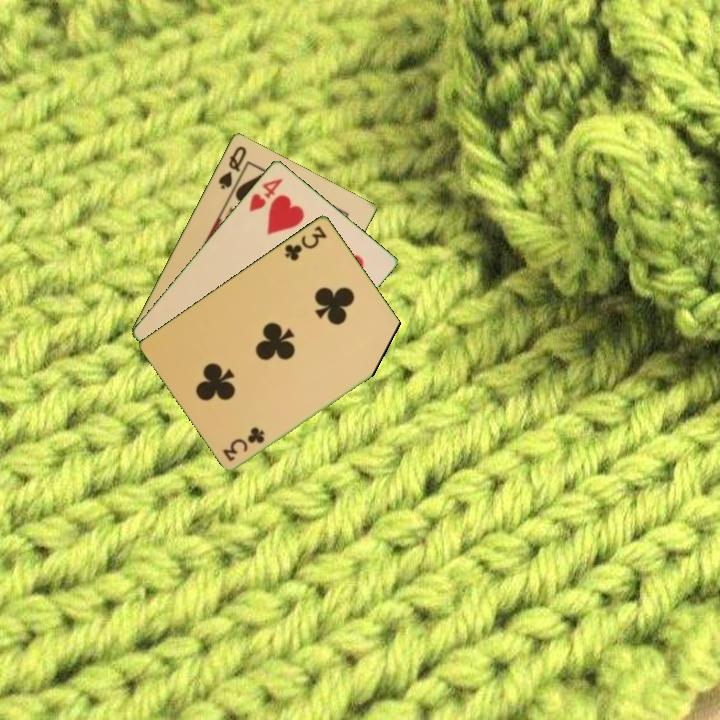3c: (281, 222, 330, 264), (220, 424, 268, 464)
4h: (245, 174, 286, 214)
Qs: (214, 142, 249, 192)
